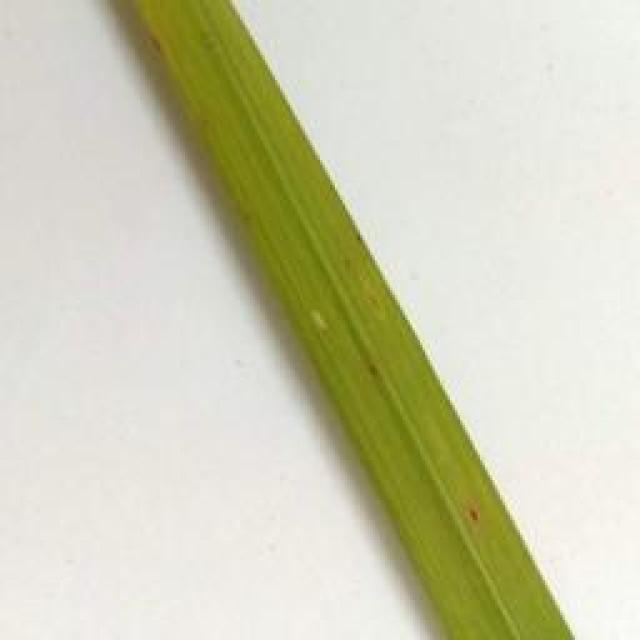Brown_Spot: (465, 494, 489, 536), (359, 360, 384, 386), (352, 229, 371, 252), (149, 36, 167, 58)
